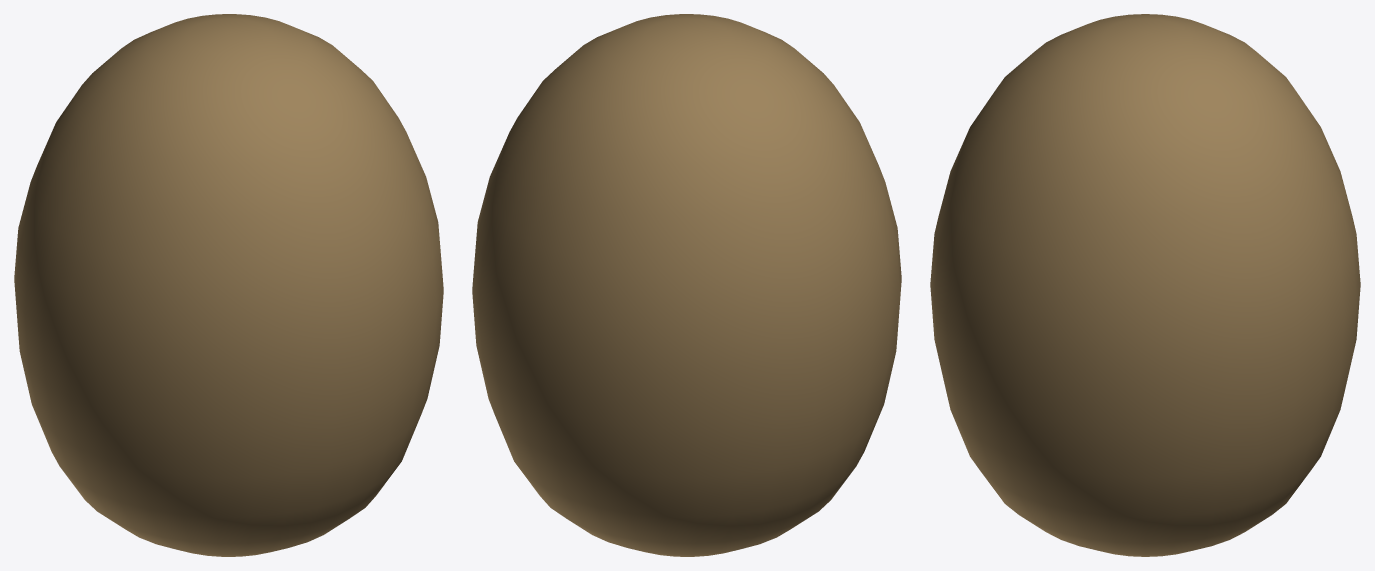
The model's file is Egg.fbx.
3 views of the same model, side by side, from view 1: azimuth 30°, elevation 25°; view 2: azimuth 150°, elevation 25°; view 3: azimuth 270°, elevation 25° (orthographic).
Visible parts, largest first — view 1: Egg; view 2: Egg; view 3: Egg.
Boxes of the visible parts, left/top/right/bottom form: Egg: left=14, top=14, right=443, bottom=556; Egg: left=472, top=14, right=901, bottom=556; Egg: left=930, top=14, right=1360, bottom=556.
Size of the model in its own units: 45 by 58.16 by 45.
